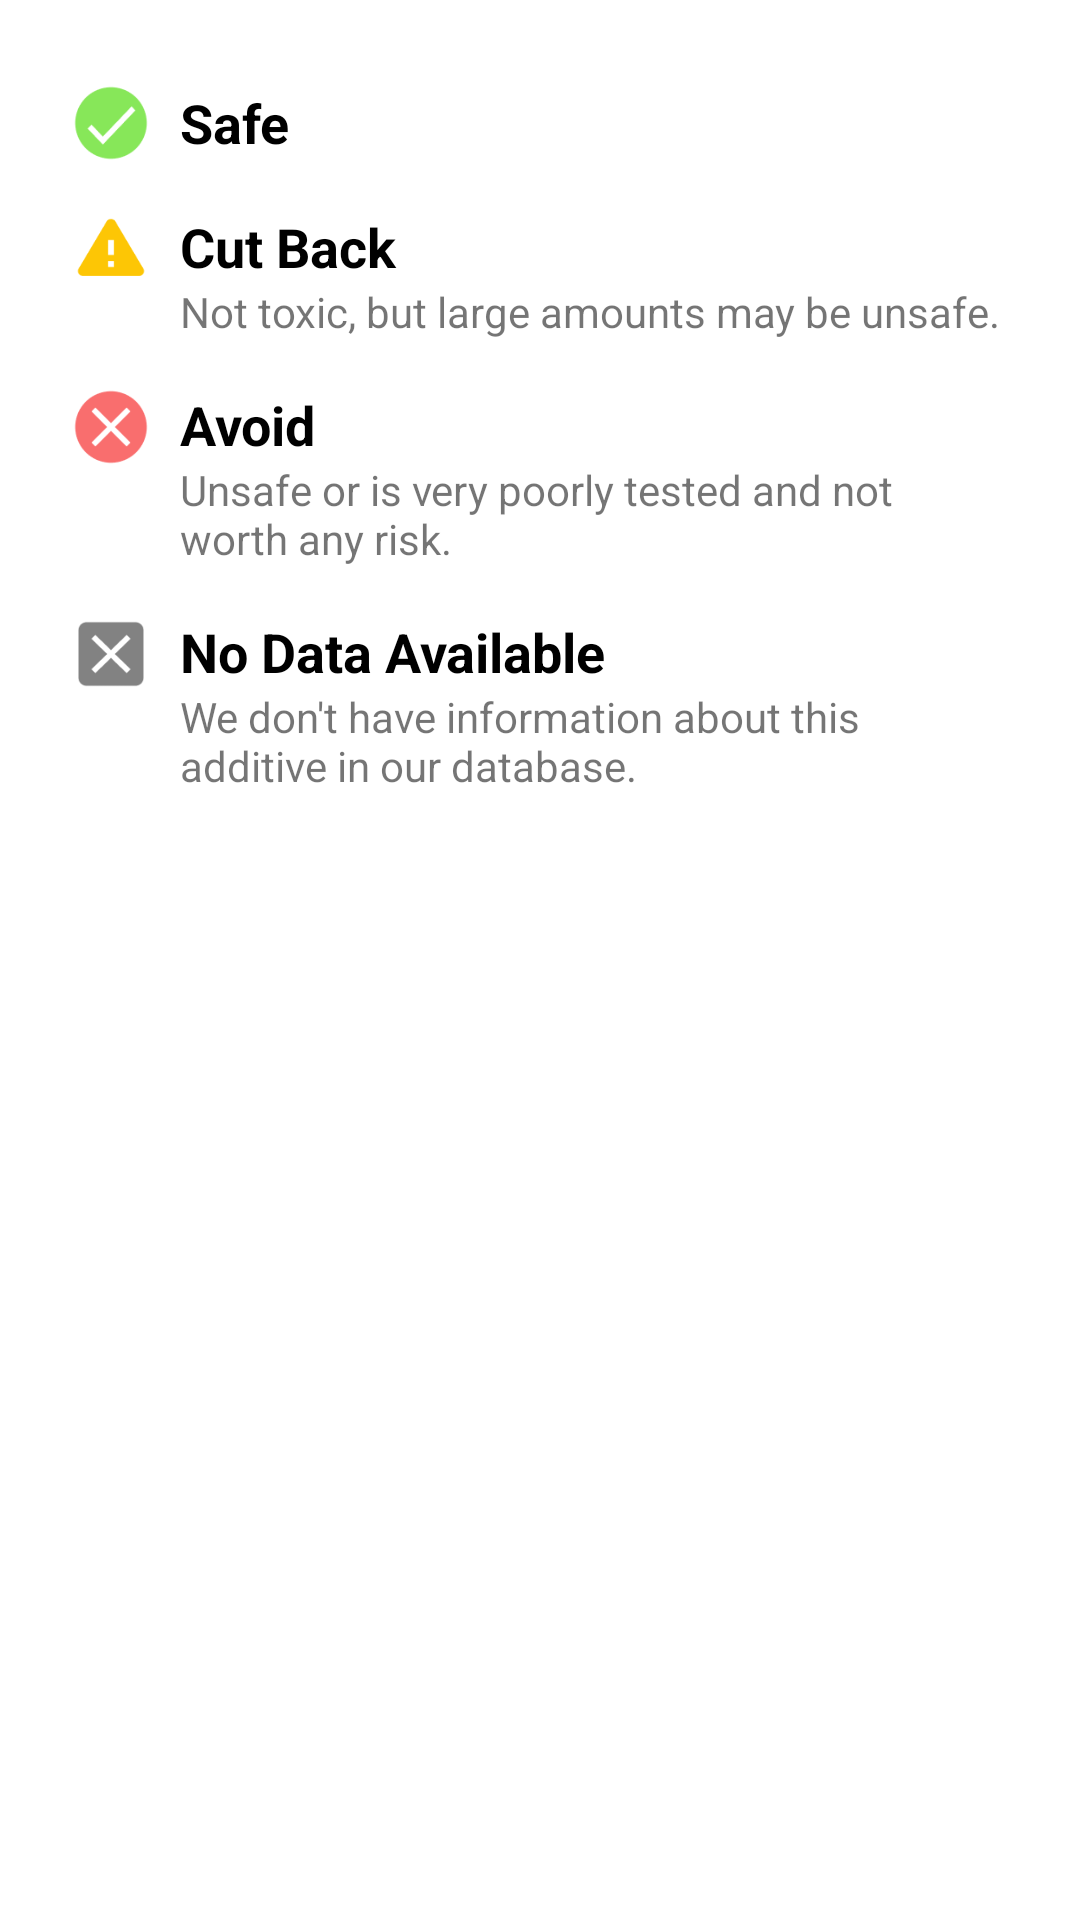

Icon click points for this 1080×1920 phone screenshot, format (x,y):
not available symbol: (111,654)
